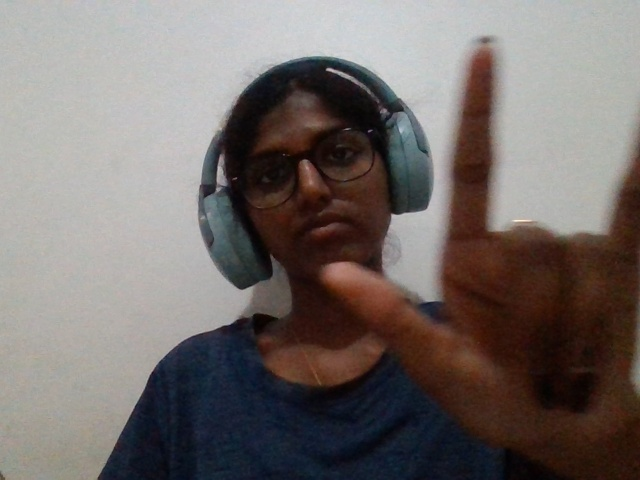I Love You: (287, 27, 640, 477)
